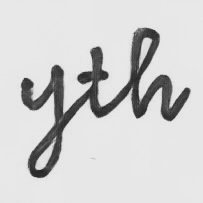h: (128, 26, 176, 124)
t: (75, 44, 116, 120)
y: (18, 62, 68, 179)
